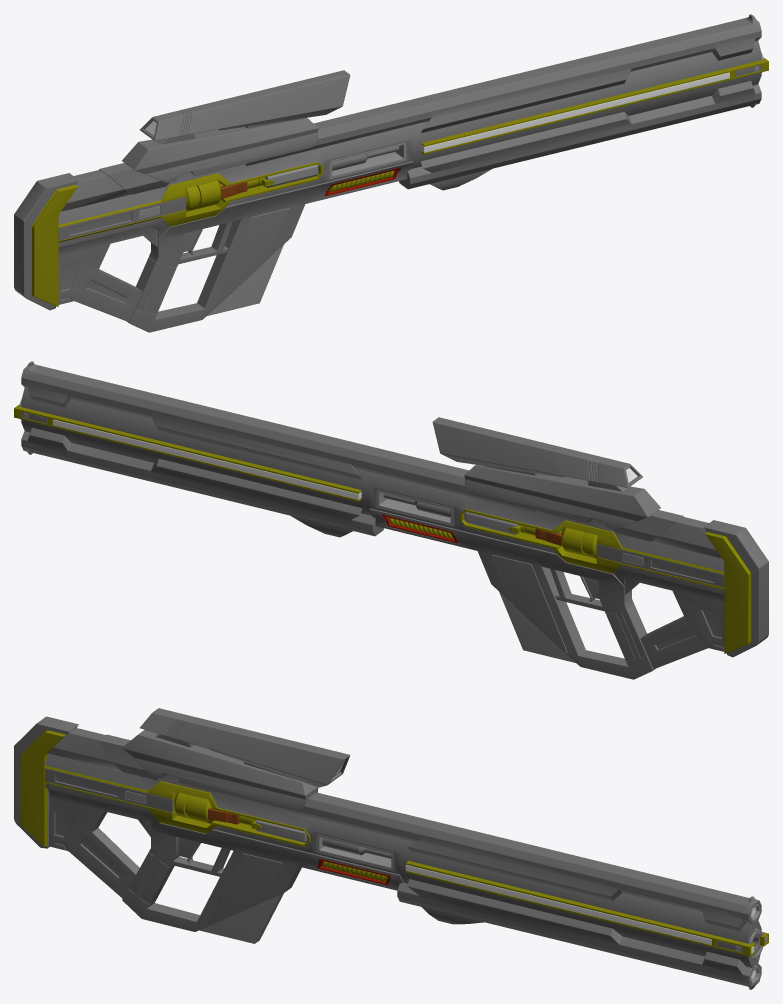
Rendered from darklance_sketchfab.fbx.
3 views of the same model, one above another, from view 1: azimuth 30°, elevation 25°; view 2: azimuth 150°, elevation 25°; view 3: azimuth 330°, elevation 25° (orthographic).
Visible parts, largest first — view 1: namlu dış, gövde, alt, dürbün alt, dürbün üst, stock, alt arka, gövdeiç, Slice.008, Slice.011, Slice, Slice.019 (+5 smaller); view 2: namlu dış, gövde, alt, dürbün alt, dürbün üst, stock, alt arka, gövdeiç, Slice.008, Slice.011, Slice, Slice.019 (+5 smaller); view 3: namlu dış, gövde, alt, dürbün alt, dürbün üst, alt arka, stock, gövdeiç, Slice.008, Slice.011, Slice, şarjör (+7 smaller).
Boxes of the visible parts, <box> form: namlu dış: <box>245,14,761,190</box>; gövde: <box>58,40,761,247</box>; alt: <box>127,161,413,332</box>; dürbün alt: <box>122,117,318,182</box>; dürbün üst: <box>140,70,350,140</box>; stock: <box>14,173,78,310</box>; alt arka: <box>58,225,158,321</box>; gövdeiç: <box>58,162,323,242</box>; Slice.008: <box>421,57,768,154</box>; Slice.011: <box>61,163,169,211</box>; Slice: <box>421,72,729,152</box>; Slice.019: <box>58,197,186,240</box>; namlu dış: <box>21,361,537,537</box>; gövde: <box>21,387,724,594</box>; alt: <box>369,508,655,679</box>; dürbün alt: <box>464,464,660,529</box>; dürbün üst: <box>432,417,642,487</box>; stock: <box>704,520,768,657</box>; alt arka: <box>624,572,724,668</box>; gövdeiç: <box>459,509,725,589</box>; Slice.008: <box>14,404,361,501</box>; Slice.011: <box>613,510,721,558</box>; Slice: <box>53,419,361,499</box>; Slice.019: <box>596,544,724,587</box>; namlu dış: <box>237,792,761,989</box>; gövde: <box>45,753,761,967</box>; alt: <box>122,822,403,931</box>; dürbün alt: <box>122,730,318,811</box>; dürbün üst: <box>140,708,350,787</box>; alt arka: <box>48,789,151,898</box>; stock: <box>14,716,78,848</box>; gövdeiç: <box>44,765,310,846</box>; Slice.008: <box>405,861,768,956</box>; Slice.011: <box>48,728,158,780</box>; Slice: <box>405,865,711,944</box>; şarjör: <box>199,893,283,943</box>.
Size of the model in its own units: 474 by 127 by 20.64.
